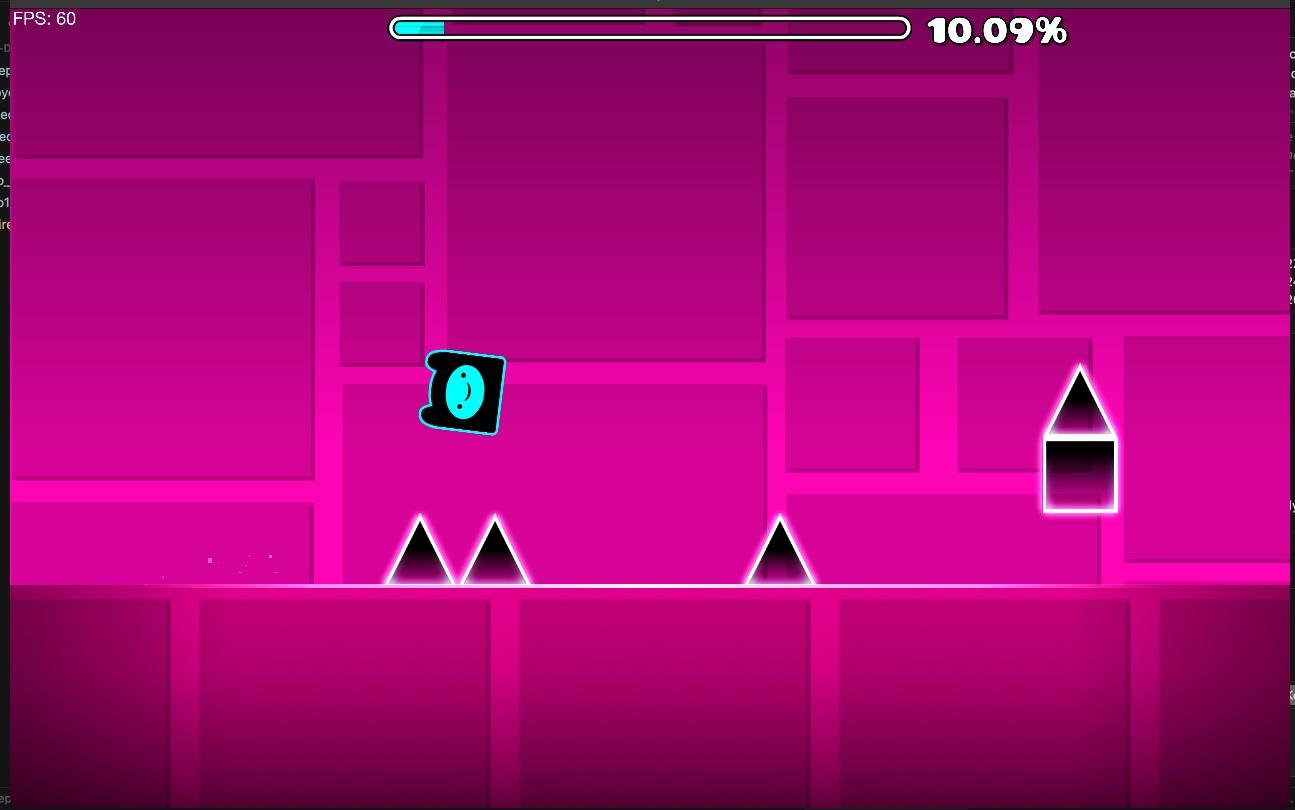block: (9, 587, 1288, 810)
player: (420, 350, 504, 433)
spike: (386, 515, 532, 586), (1045, 367, 1117, 453), (744, 516, 815, 584), (1045, 495, 1104, 513)
